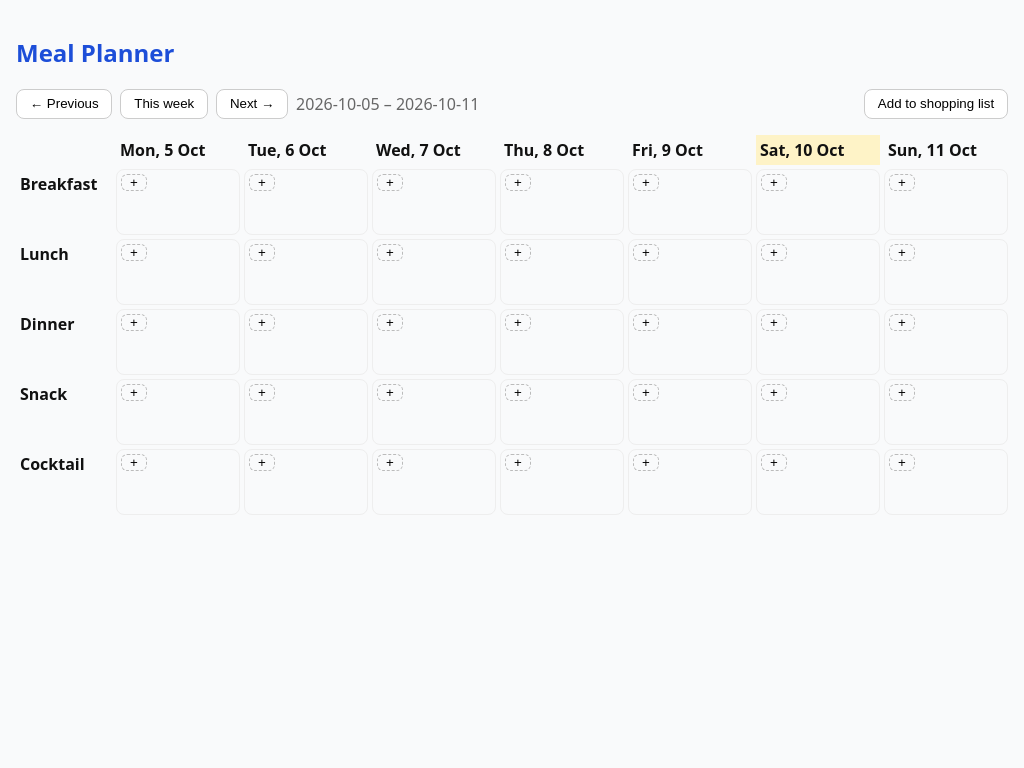
Test: MealPlanner.vue › shows an error when the dialog add fails and keeps the dialog open
Click the 10th button with class "add" at point(390, 252), box [377, 244, 403, 261]
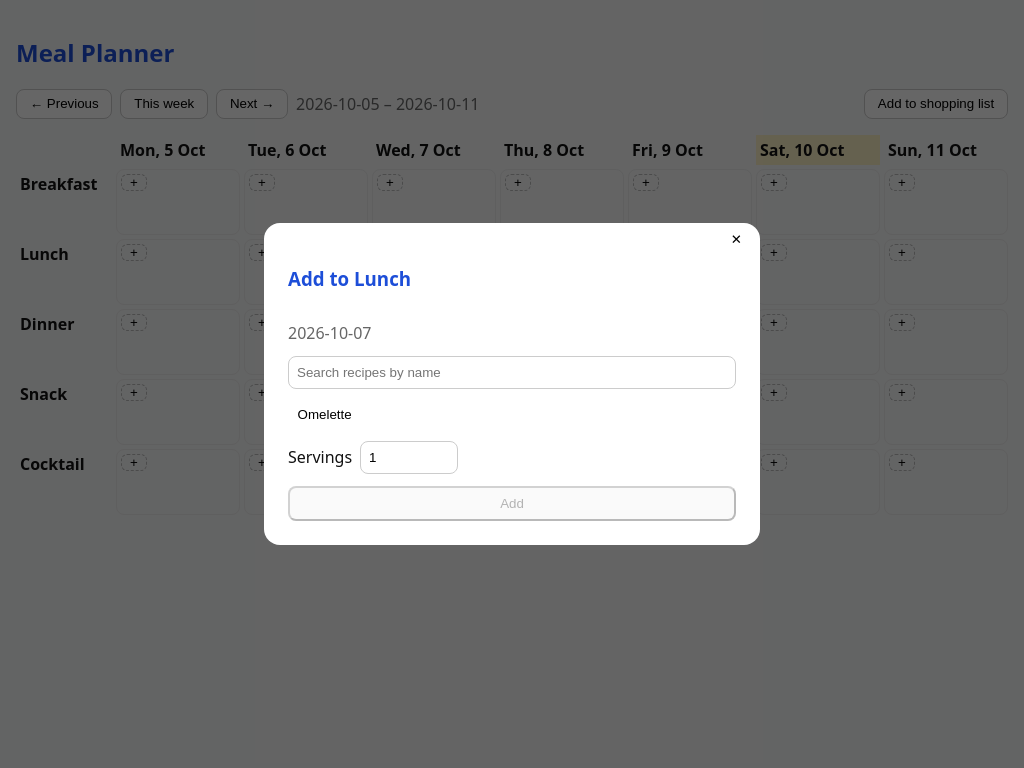
Click the button "Omelette" at point(325, 415), box [288, 401, 736, 429]
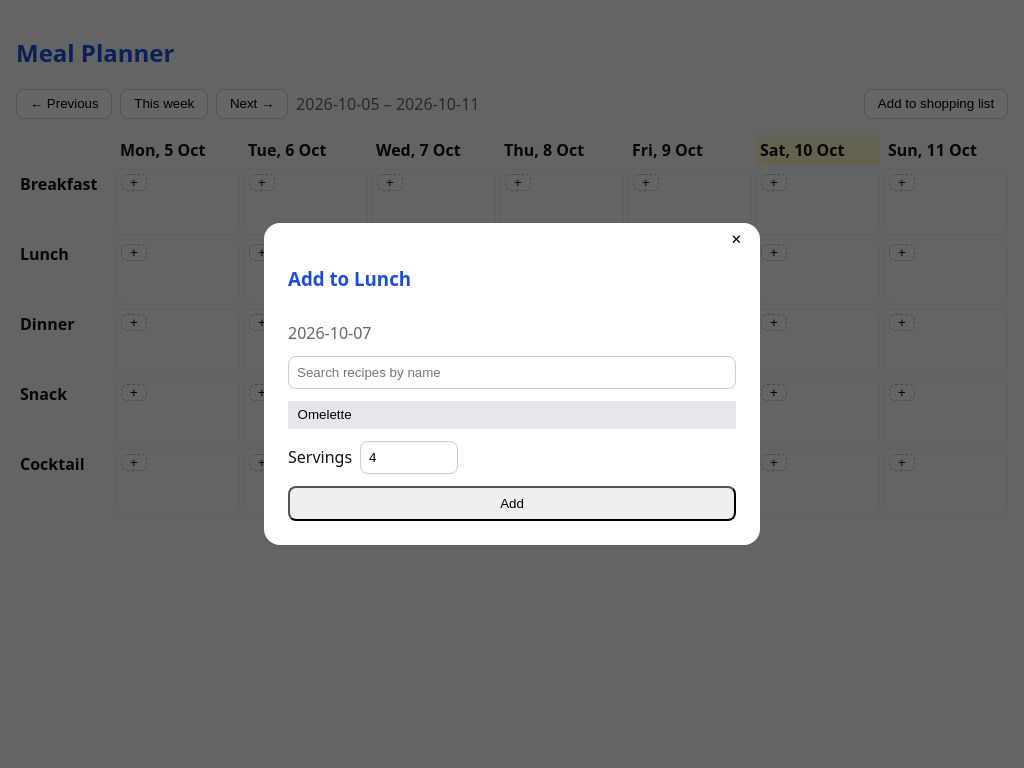
Click the button with class "add" showing "Add" at point(512, 503), box [288, 486, 736, 521]
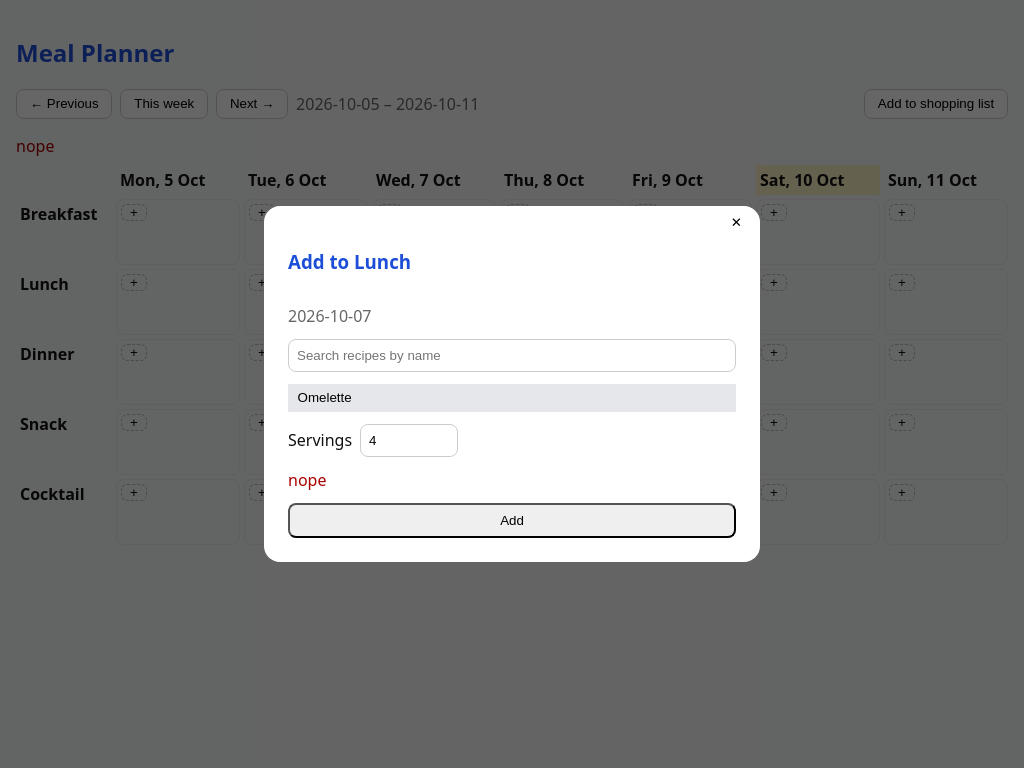
Expected: the text with class "error" below "Servings" is shown, [288, 469, 326, 491]
